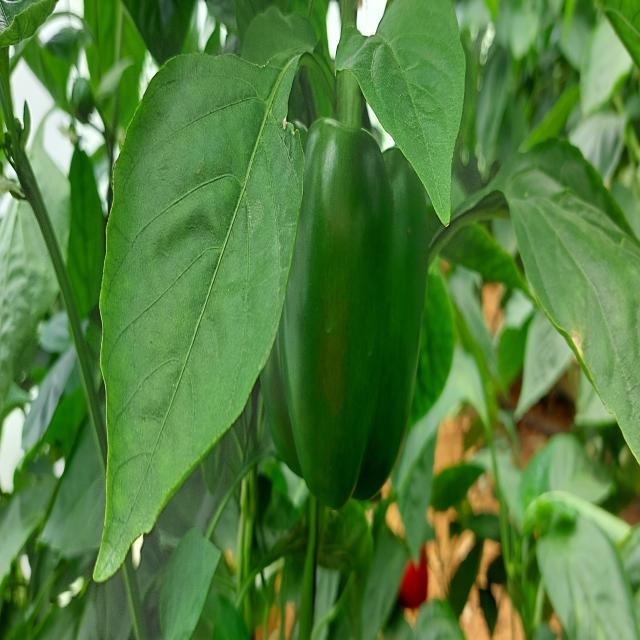Green--Not-ready-to-harvest: (255, 106, 441, 511)
